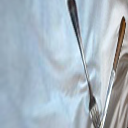fork: (65, 1, 122, 128)
